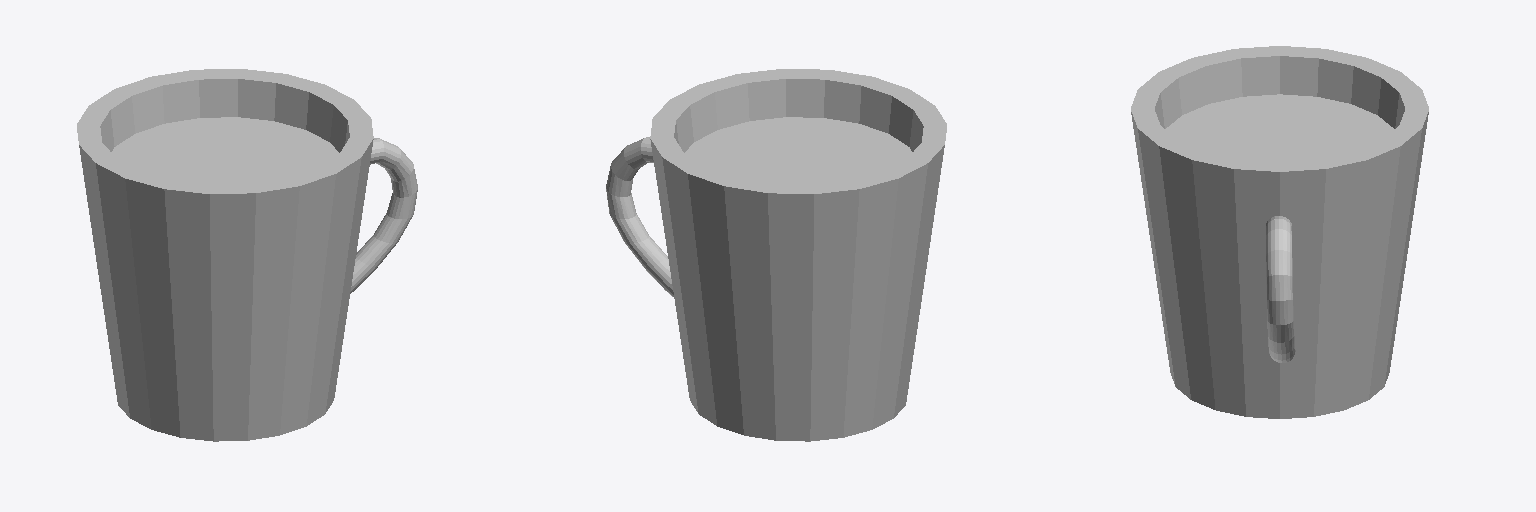
Rendered from Coffee.obj.
The picture shows the model from 3 angles: view 1: azimuth 30°, elevation 25°; view 2: azimuth 150°, elevation 25°; view 3: azimuth 270°, elevation 25°; orthographic projection.
Visible parts, largest first — view 1: mug:polySurface2 mug:polySurface3 mug:polySurface1, pCylinder1, mug:polySurface3 mug:polySurface4 mug:polySurface1; view 2: mug:polySurface2 mug:polySurface3 mug:polySurface1, pCylinder1, mug:polySurface3 mug:polySurface4 mug:polySurface1; view 3: mug:polySurface2 mug:polySurface3 mug:polySurface1, pCylinder1, mug:polySurface3 mug:polySurface4 mug:polySurface1.
Boxes of the visible parts, <box> form: mug:polySurface2 mug:polySurface3 mug:polySurface1: <box>77,69,373,441</box>; pCylinder1: <box>111,117,338,183</box>; mug:polySurface3 mug:polySurface4 mug:polySurface1: <box>350,138,417,293</box>; mug:polySurface2 mug:polySurface3 mug:polySurface1: <box>650,69,946,441</box>; pCylinder1: <box>685,117,912,183</box>; mug:polySurface3 mug:polySurface4 mug:polySurface1: <box>606,137,673,296</box>; mug:polySurface2 mug:polySurface3 mug:polySurface1: <box>1131,46,1428,418</box>; pCylinder1: <box>1166,94,1393,161</box>; mug:polySurface3 mug:polySurface4 mug:polySurface1: <box>1266,216,1295,362</box>.
Bounding box in the file's own units: 4.62 × 3.64 × 3.73.